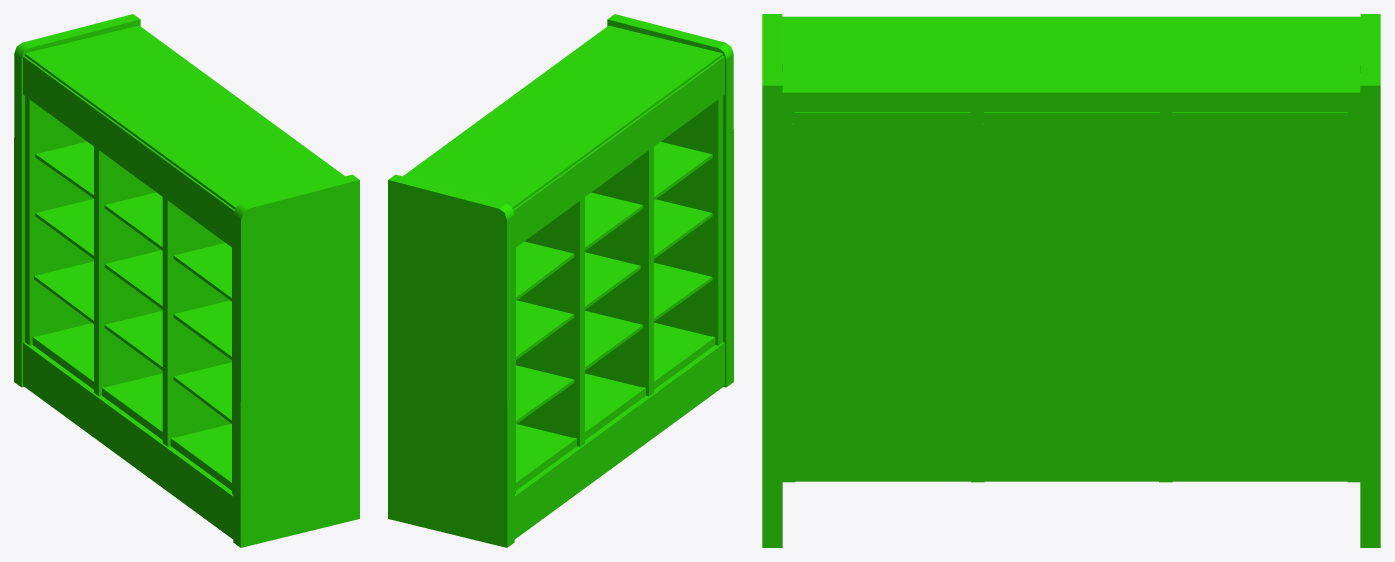
File: Shop_Fridge_03_Lod1.fbx
3 views of the same model, side by side, from view 1: azimuth 30°, elevation 25°; view 2: azimuth 150°, elevation 25°; view 3: azimuth 270°, elevation 25° (orthographic). The views are drawn at different scales.
Visible parts, largest first — view 1: Shop_Fridge_03_Lod1; view 2: Shop_Fridge_03_Lod1; view 3: Shop_Fridge_03_Lod1.
Part boxes in pixels (x1,y1,x2,y2): Shop_Fridge_03_Lod1: (14,14,359,547); Shop_Fridge_03_Lod1: (388,14,733,547); Shop_Fridge_03_Lod1: (762,14,1380,547).
Size of the model in its own units: 77.06 by 210 by 254.
